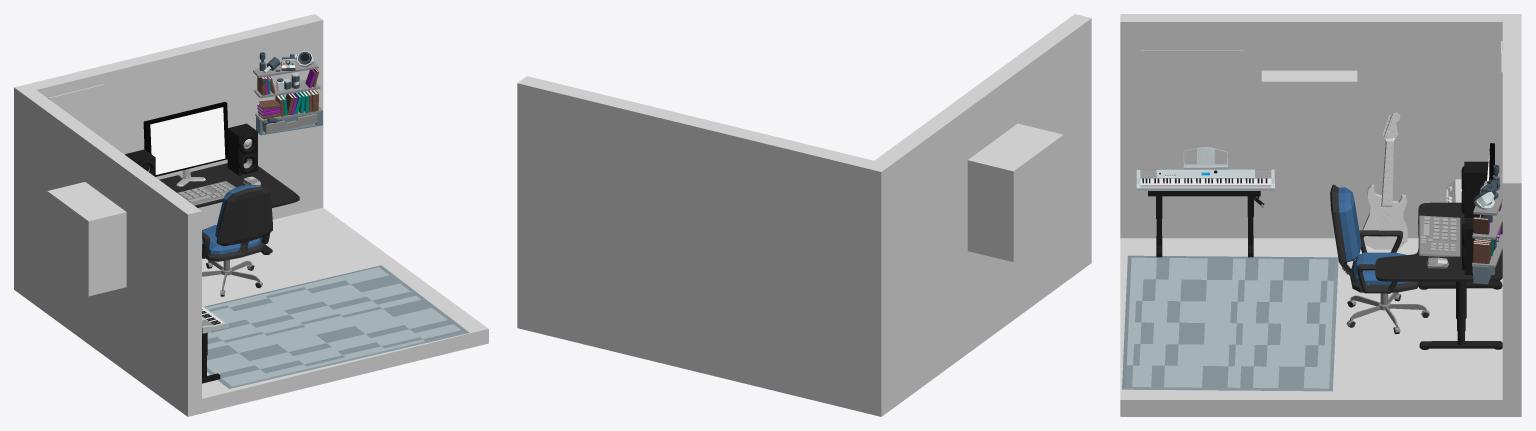
The picture shows the model from 3 angles, left to right: view 1: azimuth 30°, elevation 25°; view 2: azimuth 150°, elevation 25°; view 3: azimuth 270°, elevation 25°; orthographic projection. The views are drawn at different scales.
Visible parts, largest first — view 1: Plane, Modern_rug_Plane.004, Cube, OfficeChair, Shelf Clutter, Plane.002, Plane.001_Plane.002, bigbrr, Object.1, group2141225942, Object.30; view 2: Plane, Cube; view 3: Plane, Modern_rug_Plane.004, line-up, Cube, OfficeChair, Plane.001_Plane.002, ElectricGuitar_mesh, Shelf Clutter, group2006127357, Object.30, group1212375346, group2141225942.001 (+5 smaller).
Part boxes in pixels (x1,y1,x2,y2): Plane: [14, 14, 488, 416]; Modern_rug_Plane.004: [204, 265, 469, 388]; Cube: [47, 182, 126, 296]; OfficeChair: [202, 185, 272, 296]; Shelf Clutter: [253, 51, 322, 135]; Plane.002: [150, 107, 225, 174]; Plane.001_Plane.002: [159, 163, 299, 207]; bigbrr: [48, 84, 104, 139]; Object.1: [143, 102, 228, 176]; group2141225942: [228, 123, 257, 156]; Object.30: [177, 181, 236, 205]; Plane: [517, 14, 1091, 416]; Cube: [967, 123, 1063, 262]; Plane: [1120, 14, 1521, 416]; Modern_rug_Plane.004: [1122, 255, 1338, 391]; line-up: [1141, 50, 1243, 143]; Cube: [1261, 70, 1357, 168]; OfficeChair: [1330, 184, 1429, 334]; Plane.001_Plane.002: [1375, 202, 1502, 281]; ElectricGuitar_mesh: [1362, 112, 1407, 249]; Shelf Clutter: [1472, 164, 1502, 284]; group2006127357: [1140, 169, 1271, 179]; Object.30: [1419, 215, 1460, 256]; group1212375346: [1140, 179, 1271, 186]; group2141225942.001: [1464, 161, 1488, 195].
Bounding box in the file's own units: 9.45 × 5.39 × 8.39.
